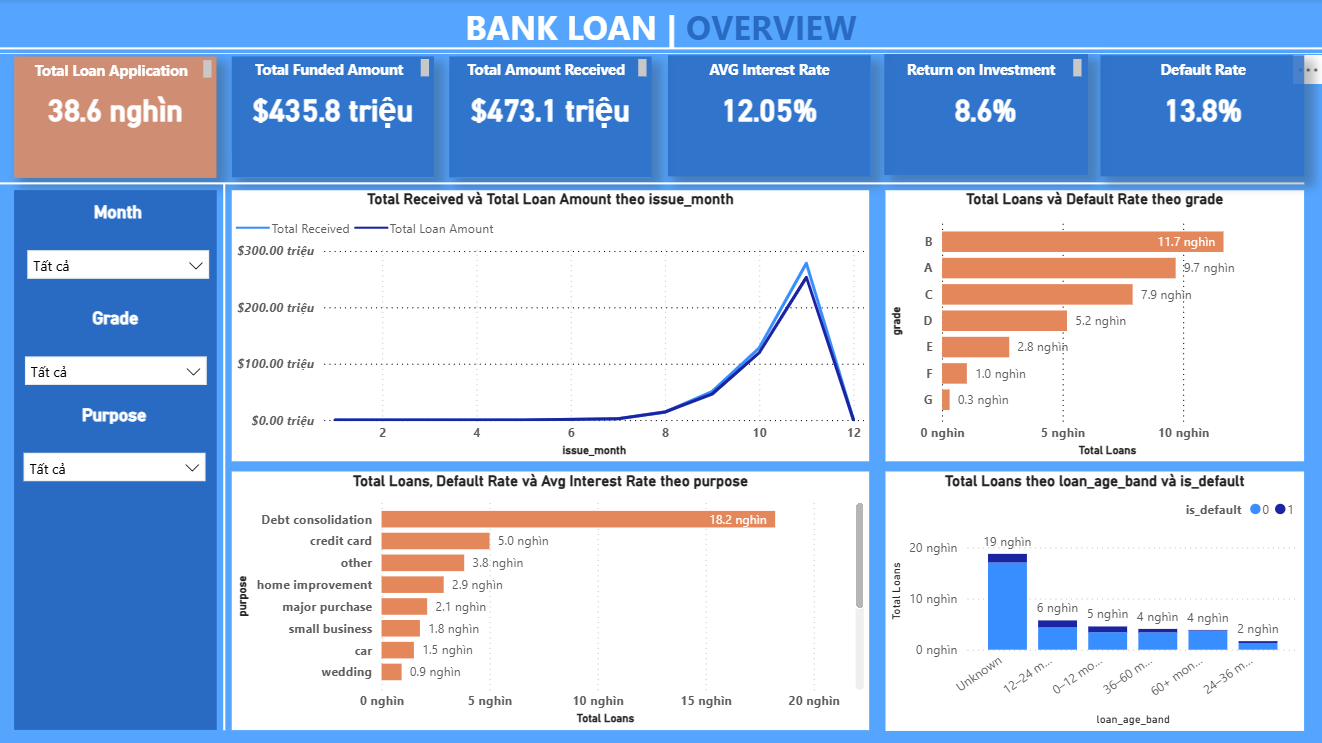

The dashboard page shown, as its layout file describes it:
{"tool":"powerbi","page":{"name":"Portfolio Overview","canvas":[1280,720],"ordinal":0},"visuals":[{"type":"shape","box":[15.7,55.5,195.4,117],"z":0},{"type":"card","fields":{"Values":["Measure.Total Loans"]},"box":[16.2,81.1,195.4,50.7],"z":1000},{"type":"textbox","box":[0,0,1280,53.1],"z":2000},{"type":"textbox","box":[16.2,54.5,195.4,31.4],"z":3000},{"type":"shape","box":[226.1,55.7,195.4,117],"z":4000},{"type":"card","fields":{"Values":["Measure.Total Loan Amount"]},"box":[226.1,81.1,195.4,50.7],"z":5000},{"type":"textbox","box":[226.1,53.3,195.4,32.6],"z":6000},{"type":"shape","box":[436,55,195.4,117],"z":7000},{"type":"card","fields":{"Values":["Measure.Total Received"]},"box":[435.9,80.7,195.4,50.7],"z":8000},{"type":"textbox","box":[436,53.3,195.4,32.6],"z":9000},{"type":"shape","box":[647,54.3,195.7,117.1],"z":10000},{"type":"textbox","box":[647.1,53.3,195.4,32.6],"z":11000},{"type":"shape","box":[855.8,53.3,196.6,117],"z":12000},{"type":"card","fields":{"Values":["Measure.ROI%"]},"box":[855.8,81.1,195.4,50.7],"z":13000},{"type":"textbox","box":[855.8,53.3,195.4,32.6],"z":14000},{"type":"shape","box":[15.7,184.6,195.4,521.2],"z":15000},{"type":"shape","box":[0,39.8,1280,15.7],"z":16000},{"type":"shape","box":[211.1,178.6,14.5,527.2],"z":17000},{"type":"shape","box":[0,171.3,1260.7,13.3],"z":18000},{"type":"clusteredBarChart","fields":{"Y":["Measure.Total Loans"],"Category":["financial_loan.grade"]},"box":[856.6,184.6,404.2,261.8],"z":19000},{"type":"lineChart","fields":{"Y":["Measure.Total Received","Measure.Total Loan Amount"],"Category":["financial_loan.issue_month"]},"box":[225.6,184.6,615.3,261.8],"z":20000},{"type":"barChart","fields":{"Category":["financial_loan.purpose"],"Y":["Measure.Total Loans"]},"box":[225.6,456,615.3,249.7],"z":21000},{"type":"shape","box":[1064.1,54,196.6,117],"z":22000},{"type":"card","fields":{"Values":["Measure.Default Rate"]},"box":[1065.3,80.8,195.4,50.7],"z":23000},{"type":"textbox","box":[1065.3,53.1,195.4,32.6],"z":24000},{"type":"card","fields":{"Values":["Measure.Avg Interest Rate"]},"box":[646.7,80.8,195.4,50.7],"z":25000},{"type":"columnChart","fields":{"Category":["financial_loan.loan_age_band"],"Y":["Measure.Total Loans"],"Series":["financial_loan.is_default"]},"box":[857,456,404,250],"z":26000},{"type":"slicer","title":"Month","fields":{"Values":["financial_loan.purpose"]},"box":[17.5,195.4,195.4,80.9],"z":27000},{"type":"slicer","title":"Grade","fields":{"Values":["financial_loan.grade"]},"box":[16.2,297.8,195.4,80.9],"z":28000},{"type":"slicer","title":"Purpose","fields":{"Values":["financial_loan.purpose"]},"box":[14.8,390.8,195.4,80.9],"z":29000}]}

Visuals, with their boxes in screenshot pixels (x1, y1, x2, y2), scaled from the page's 1280x720 canvas onto the 1322x743 screenshot:
shape: (x1=16, y1=57, x2=218, y2=178)
card - Measure.Total Loans: (x1=17, y1=84, x2=219, y2=136)
textbox: (x1=0, y1=0, x2=1321, y2=55)
textbox: (x1=17, y1=56, x2=219, y2=89)
shape: (x1=234, y1=57, x2=435, y2=178)
card - Measure.Total Loan Amount: (x1=234, y1=84, x2=435, y2=136)
textbox: (x1=234, y1=55, x2=435, y2=89)
shape: (x1=450, y1=57, x2=652, y2=177)
card - Measure.Total Received: (x1=450, y1=83, x2=652, y2=136)
textbox: (x1=450, y1=55, x2=652, y2=89)
shape: (x1=668, y1=56, x2=870, y2=177)
textbox: (x1=668, y1=55, x2=870, y2=89)
shape: (x1=884, y1=55, x2=1087, y2=176)
card - Measure.ROI%: (x1=884, y1=84, x2=1086, y2=136)
textbox: (x1=884, y1=55, x2=1086, y2=89)
shape: (x1=16, y1=190, x2=218, y2=728)
shape: (x1=0, y1=41, x2=1321, y2=57)
shape: (x1=218, y1=184, x2=233, y2=728)
shape: (x1=0, y1=177, x2=1302, y2=190)
clusteredBarChart - Measure.Total Loans x financial_loan.grade: (x1=885, y1=190, x2=1302, y2=461)
lineChart - Measure.Total Received x Measure.Total Loan Amount: (x1=233, y1=190, x2=868, y2=461)
barChart - financial_loan.purpose x Measure.Total Loans: (x1=233, y1=471, x2=868, y2=728)
shape: (x1=1099, y1=56, x2=1302, y2=176)
card - Measure.Default Rate: (x1=1100, y1=83, x2=1302, y2=136)
textbox: (x1=1100, y1=55, x2=1302, y2=88)
card - Measure.Avg Interest Rate: (x1=668, y1=83, x2=870, y2=136)
columnChart - financial_loan.loan_age_band x Measure.Total Loans: (x1=885, y1=471, x2=1302, y2=729)
"Month" slicer: (x1=18, y1=202, x2=220, y2=285)
"Grade" slicer: (x1=17, y1=307, x2=219, y2=391)
"Purpose" slicer: (x1=15, y1=403, x2=217, y2=487)
